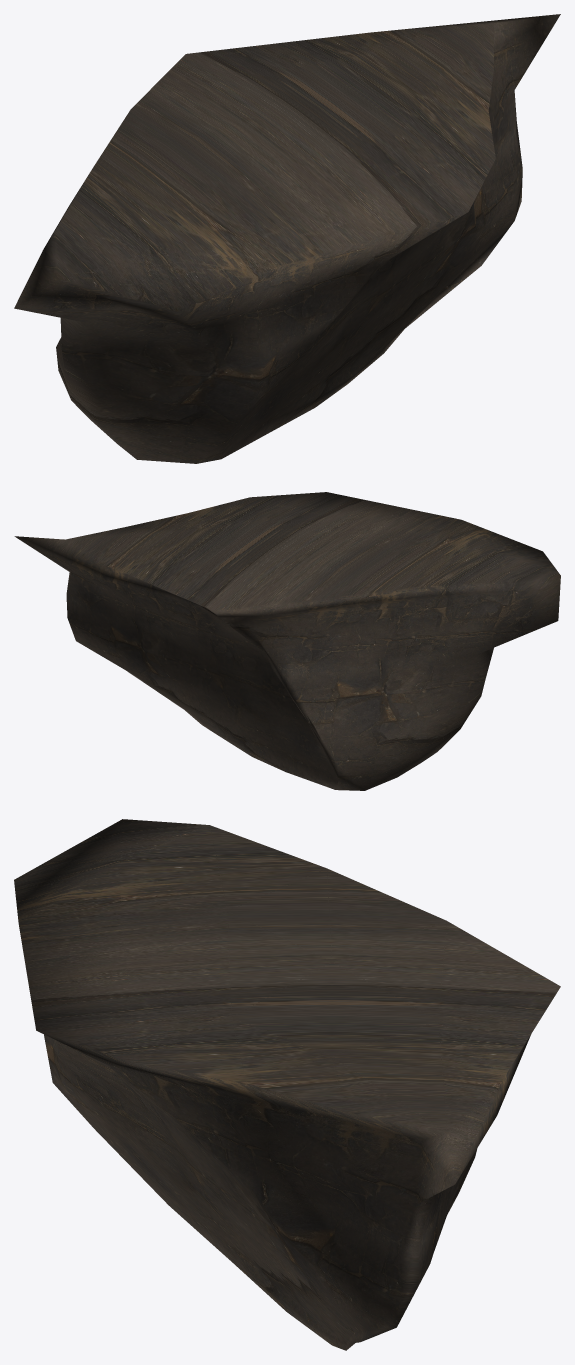
File: cliff_shelf_a_lod2.gltf
The picture shows the model from 3 angles, top to bottom: view 1: azimuth 30°, elevation 25°; view 2: azimuth 150°, elevation 25°; view 3: azimuth 270°, elevation 25°; orthographic projection. The views are drawn at different scales.
Visible parts, largest first — view 1: cliff_shelf_a_LOD2; view 2: cliff_shelf_a_LOD2; view 3: cliff_shelf_a_LOD2.
Part boxes in pixels (x1=…): cliff_shelf_a_LOD2: x1=14, y1=14, x2=560, y2=463; cliff_shelf_a_LOD2: x1=14, y1=492, x2=560, y2=790; cliff_shelf_a_LOD2: x1=14, y1=819, x2=560, y2=1350.
Size of the model in its own units: 16.99 by 7 by 10.32.
Materials: 1 (1 with a texture image).
